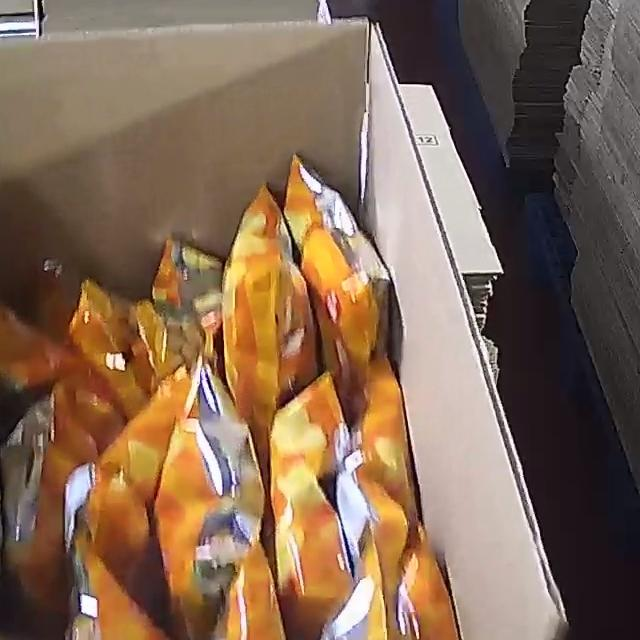cheese: (0, 150, 472, 640)
